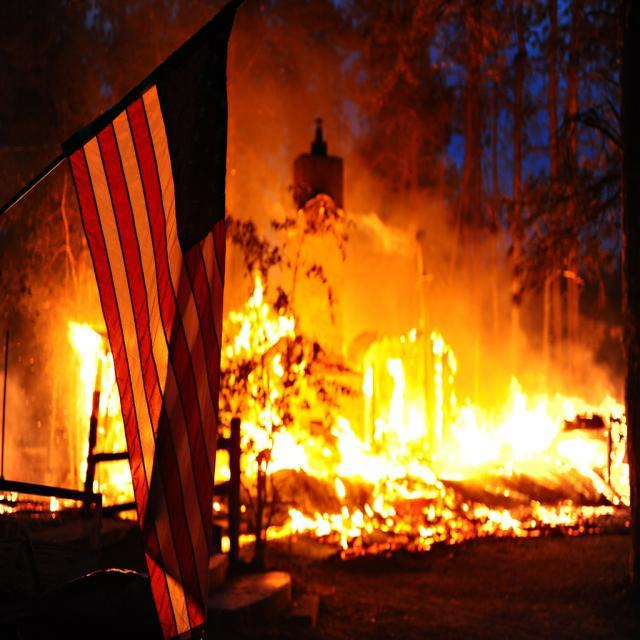Fire: (234, 350, 621, 508), (70, 323, 116, 451)
